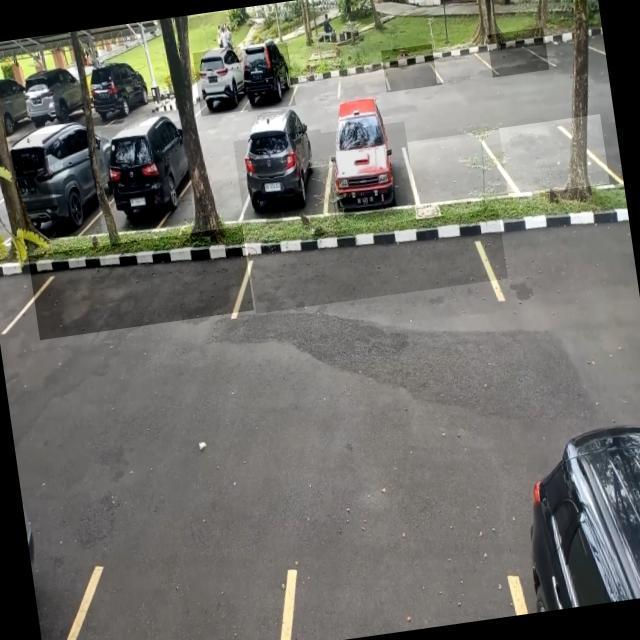empty: (246, 208, 508, 314), (28, 226, 254, 340), (499, 114, 610, 198), (406, 129, 509, 207), (486, 27, 550, 78), (432, 34, 496, 84), (382, 44, 442, 92), (286, 57, 343, 106), (335, 53, 390, 99)
occupied: (100, 120, 196, 234), (10, 128, 103, 245), (234, 129, 332, 224), (319, 121, 416, 216), (192, 46, 250, 117), (240, 43, 296, 112)
